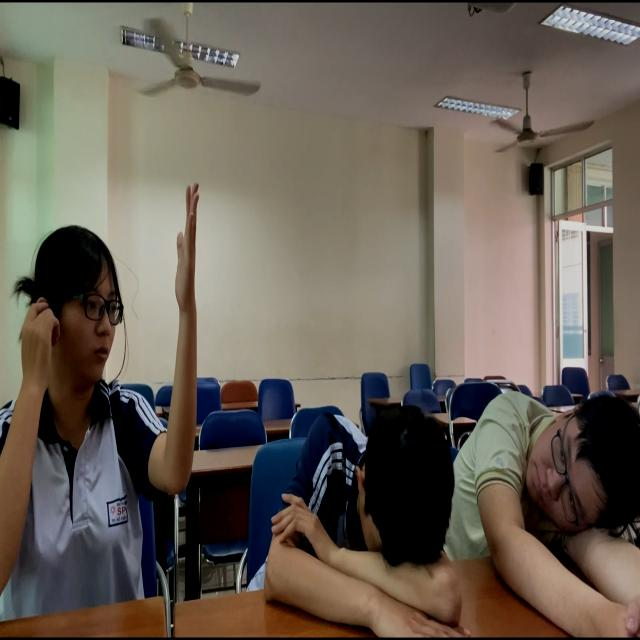raise_hand: (1, 169, 216, 640)
sleep: (262, 376, 470, 640), (458, 355, 640, 616)
